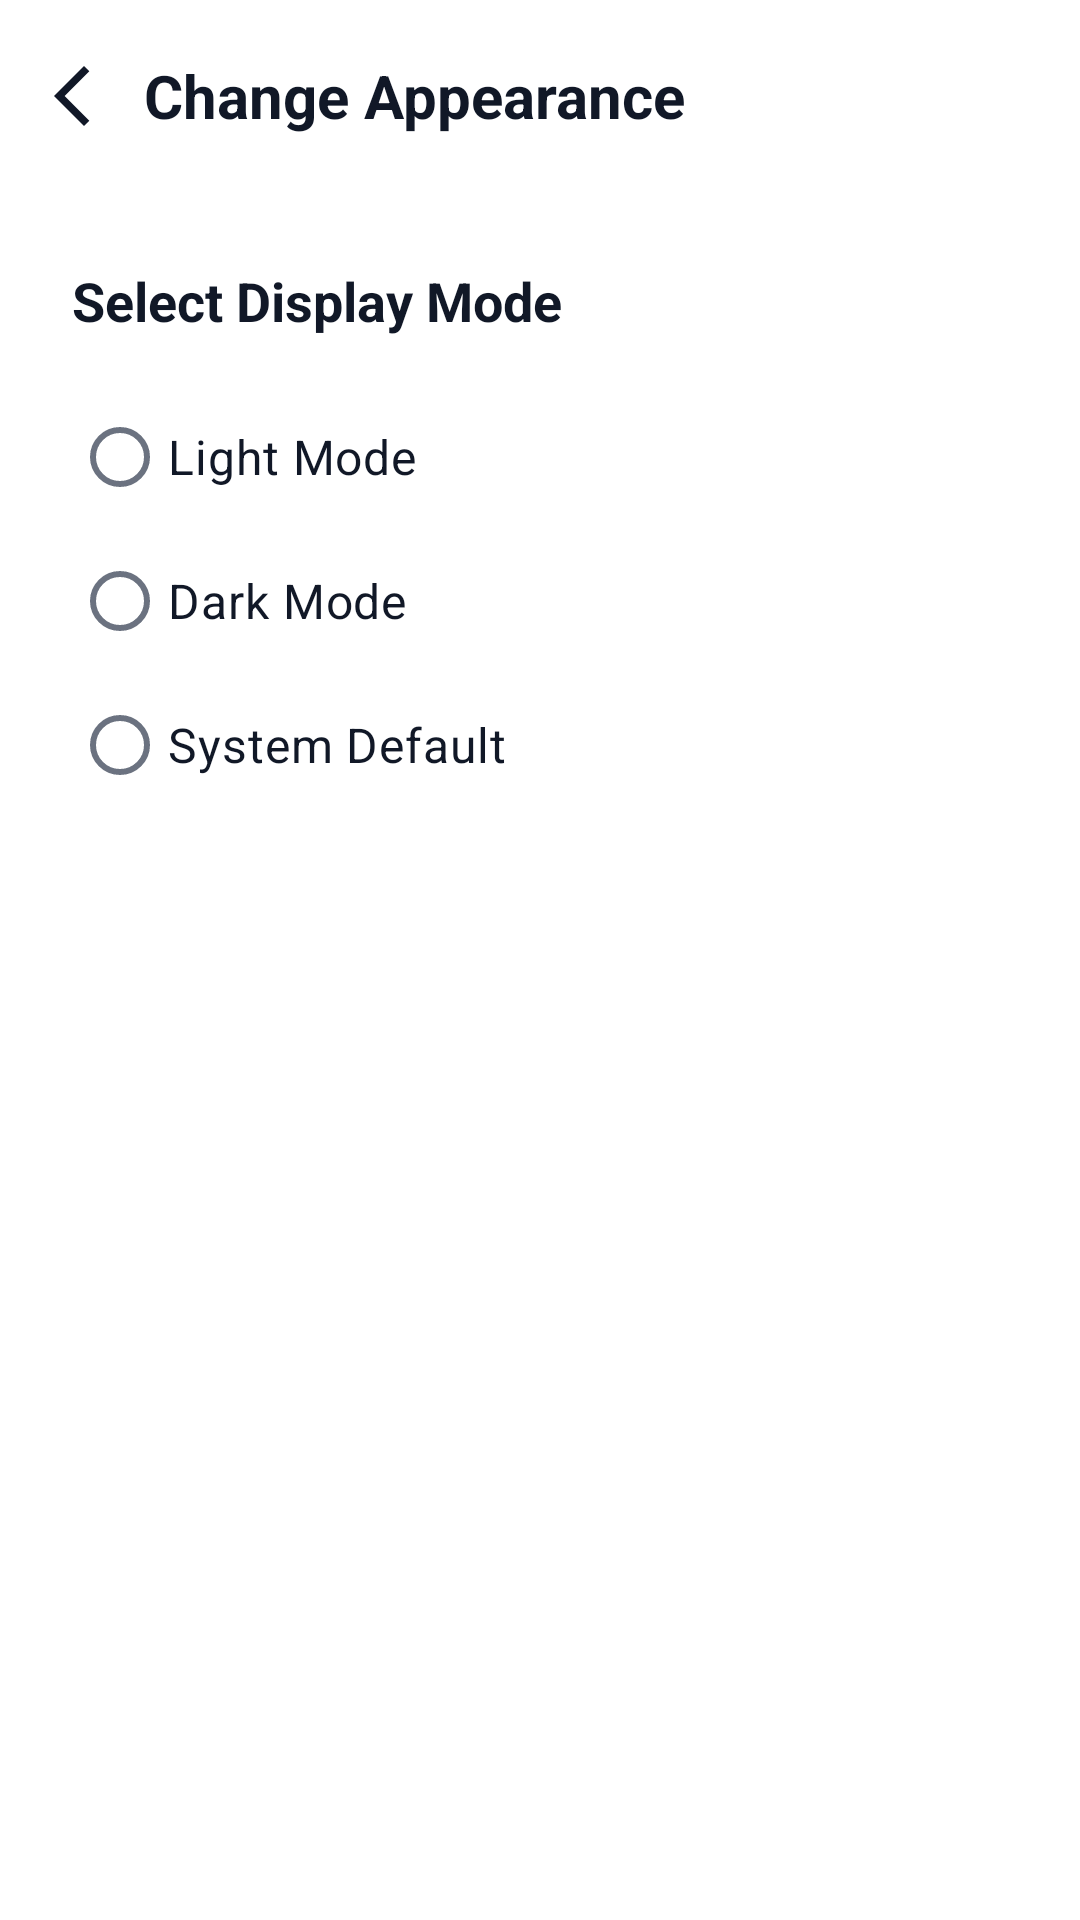

Icons on this 1080x1920 Android screen, each with the point to tap as point (x, y):
arrow back: point (71, 96)
